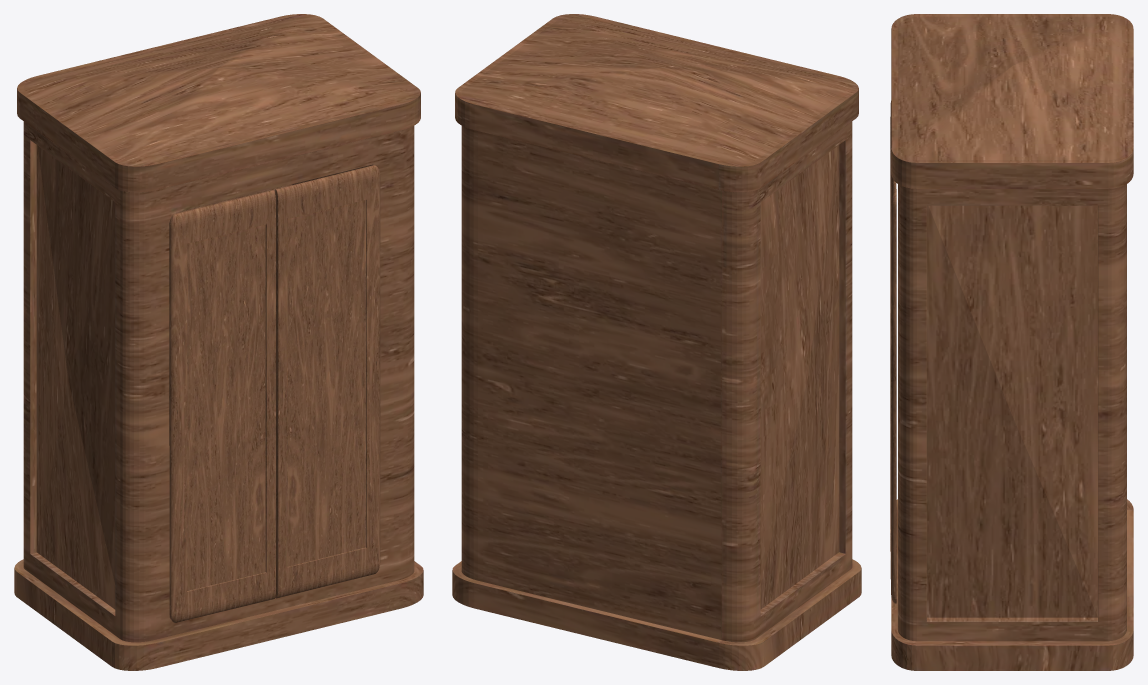
The model's file is cabinet-transformed.glb.
The picture shows the model from 3 angles, left to right: view 1: azimuth 30°, elevation 25°; view 2: azimuth 150°, elevation 25°; view 3: azimuth 270°, elevation 25°; orthographic projection.
Visible parts, largest first — view 1: Cabinet_Baked, Door L_Baked, Door R_Baked; view 2: Cabinet_Baked; view 3: Cabinet_Baked, Door R_Baked.
Part boxes in pixels (<box>): Cabinet_Baked: <box>14,14,423,670</box>; Door L_Baked: <box>169,190,275,622</box>; Door R_Baked: <box>275,165,380,598</box>; Cabinet_Baked: <box>452,14,861,670</box>; Cabinet_Baked: <box>891,14,1133,670</box>; Door R_Baked: <box>890,149,896,603</box>.
Size of the model in its own units: 26.5 by 43.09 by 17.96.
Materials: 3 (3 with a texture image).
